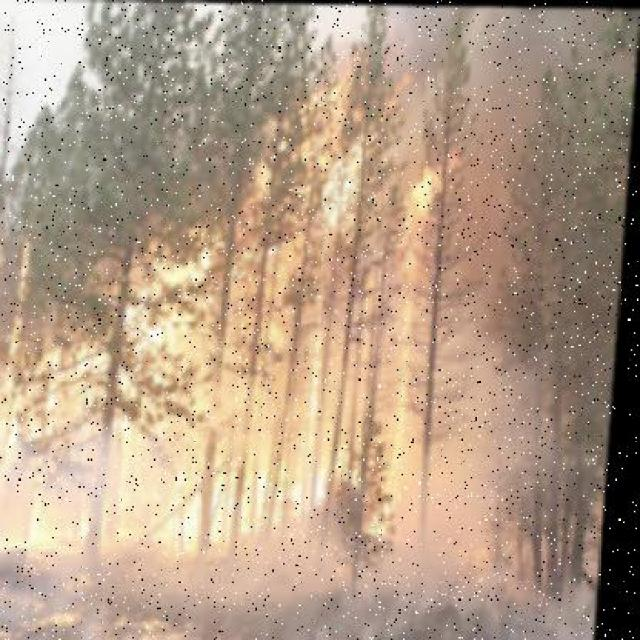fire: (1, 246, 441, 562)
